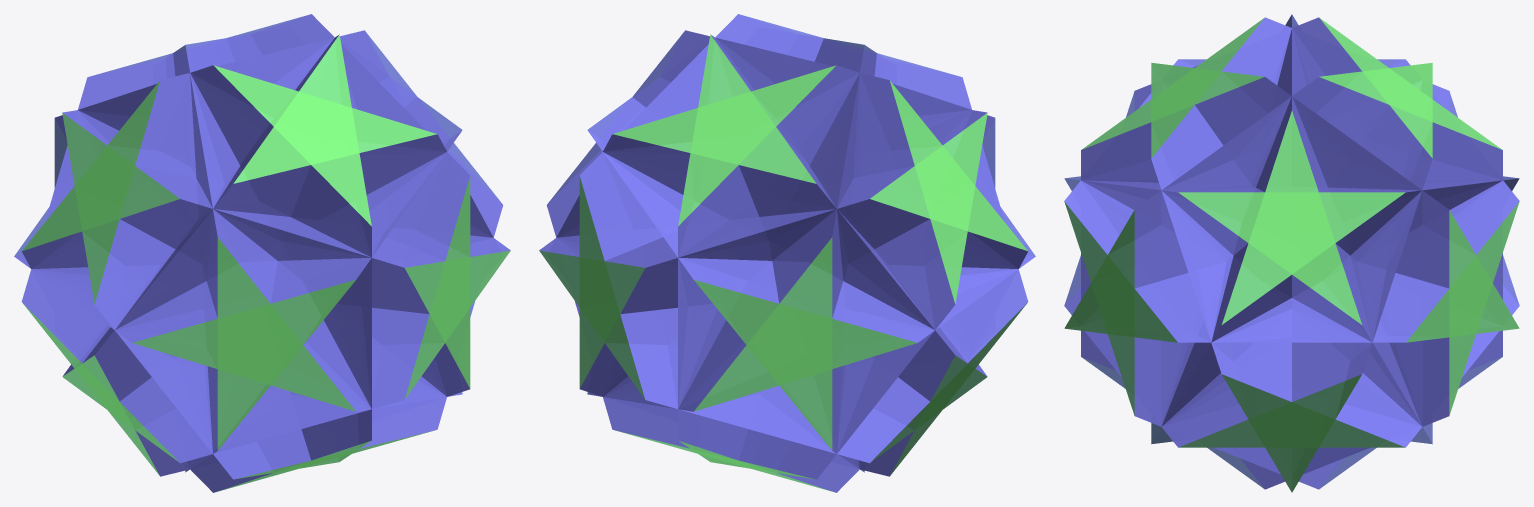
File: TruncatedGreatIcosahedron.obj
3 views of the same model, side by side, from view 1: azimuth 30°, elevation 25°; view 2: azimuth 150°, elevation 25°; view 3: azimuth 270°, elevation 25° (orthographic). The views are drawn at different scales.
Bounding box in the file's own units: 2 × 2 × 2.
